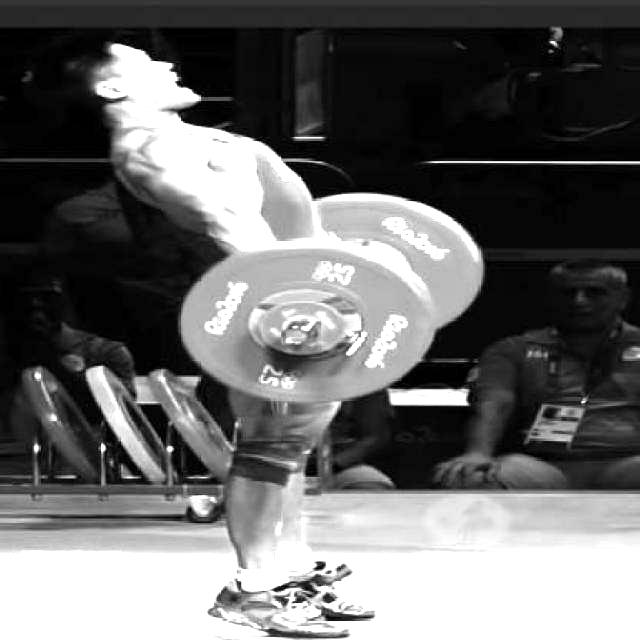barbell: (175, 235, 437, 407)
